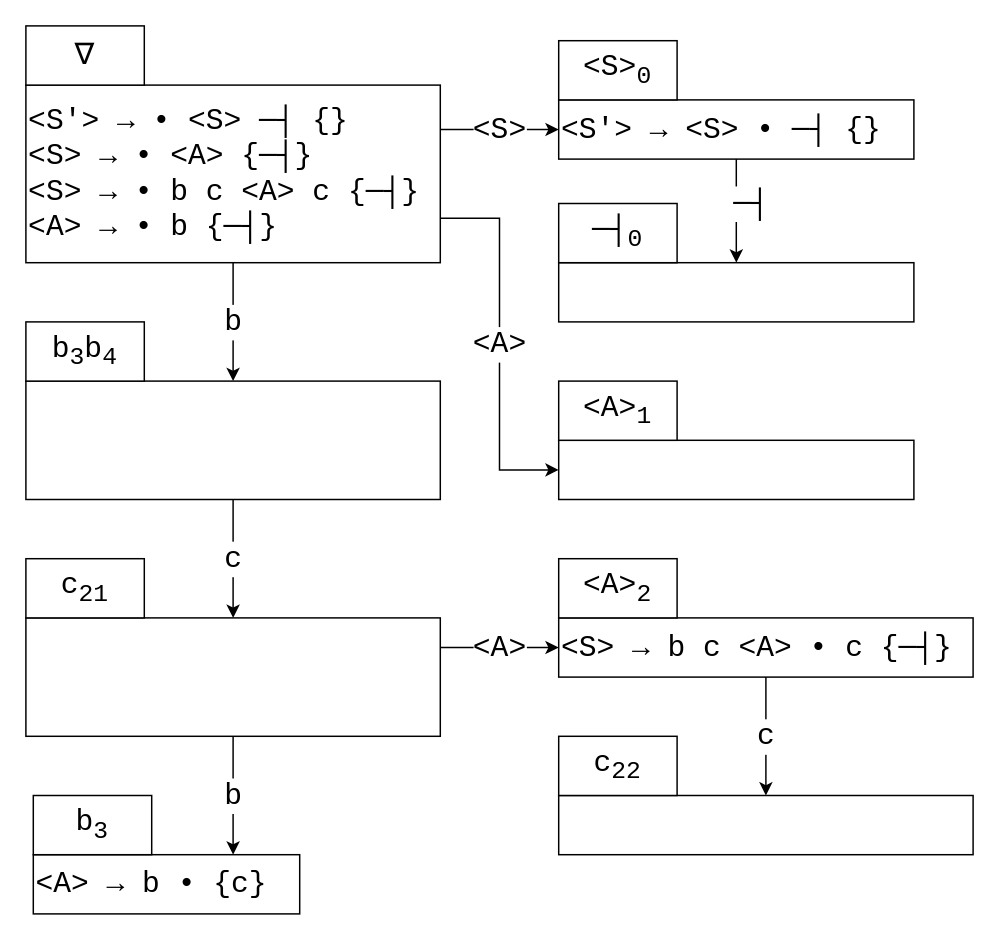
The diagram is 999 pixels wide and 940 high, and some of its shapes have lost their labels. The shapes that lost their labels are listed below. From the top down, each one's box as (x1, y1, x2, y2) in pixels, then its label:
(557, 261, 914, 322): <S'> → <S> ─┤ • {}
(24, 380, 440, 500): <S> → b • c <A> c { ─┤ } <A> → b • { ─┤ }
(557, 439, 914, 500): <S> → <A> • { ─┤ }
(24, 616, 440, 736): <S> → b c • <A> c { ─┤ } <A> → • b {c}
(557, 794, 973, 855): <S> → b c <A> c • { ─┤ }
